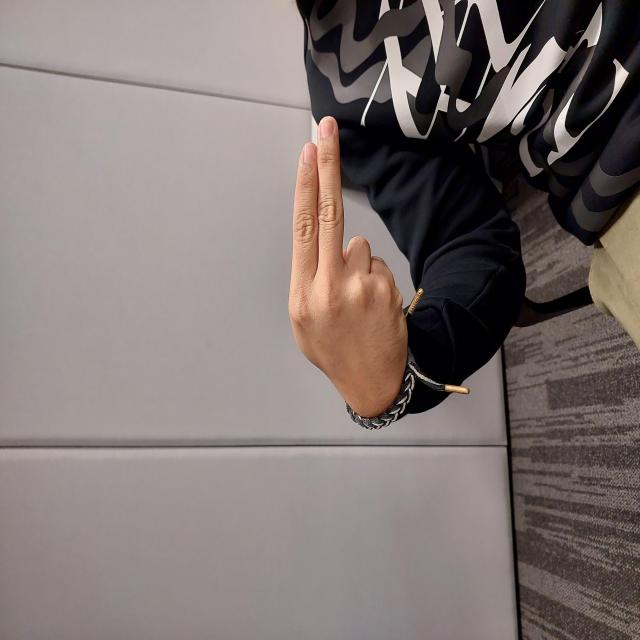H: (220, 287, 526, 407)
